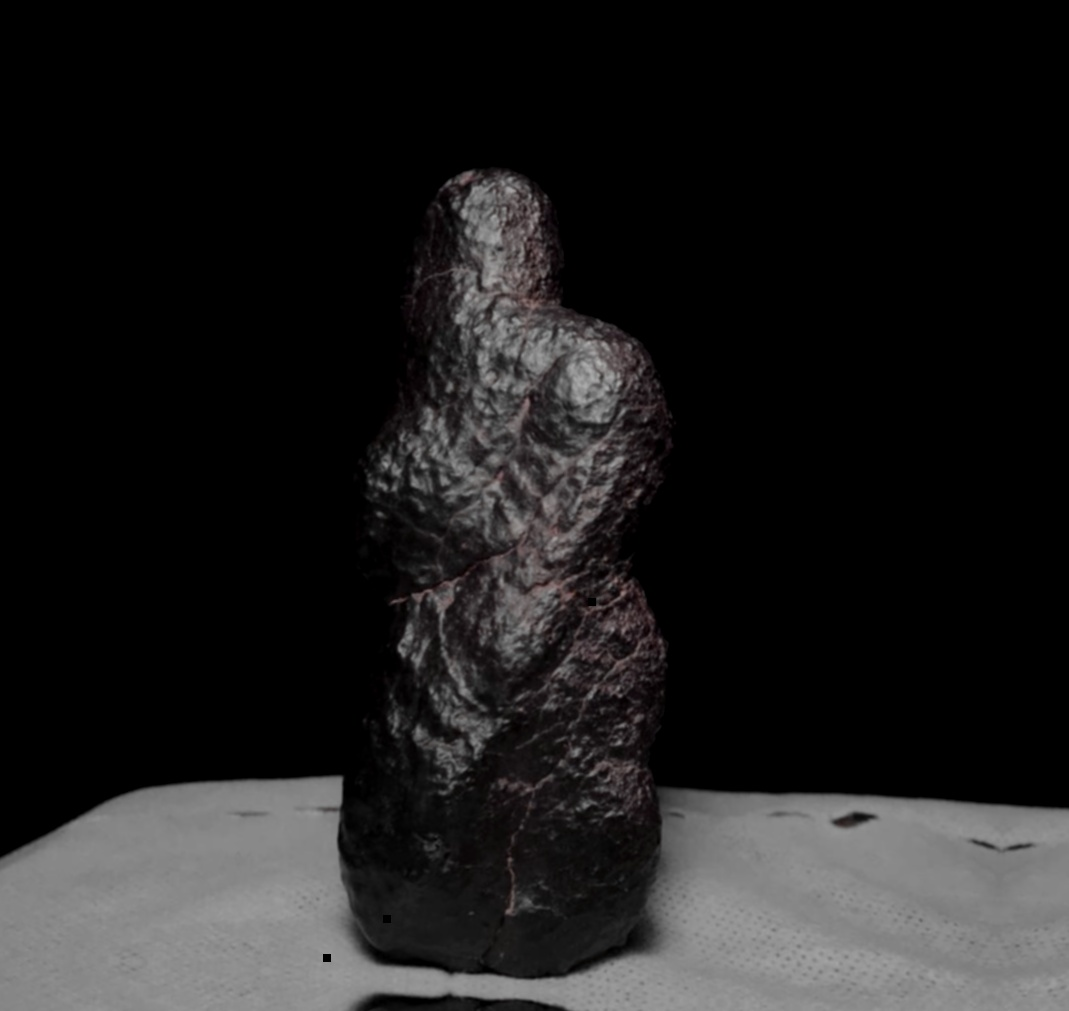halobolite: (257, 132, 773, 1003)
